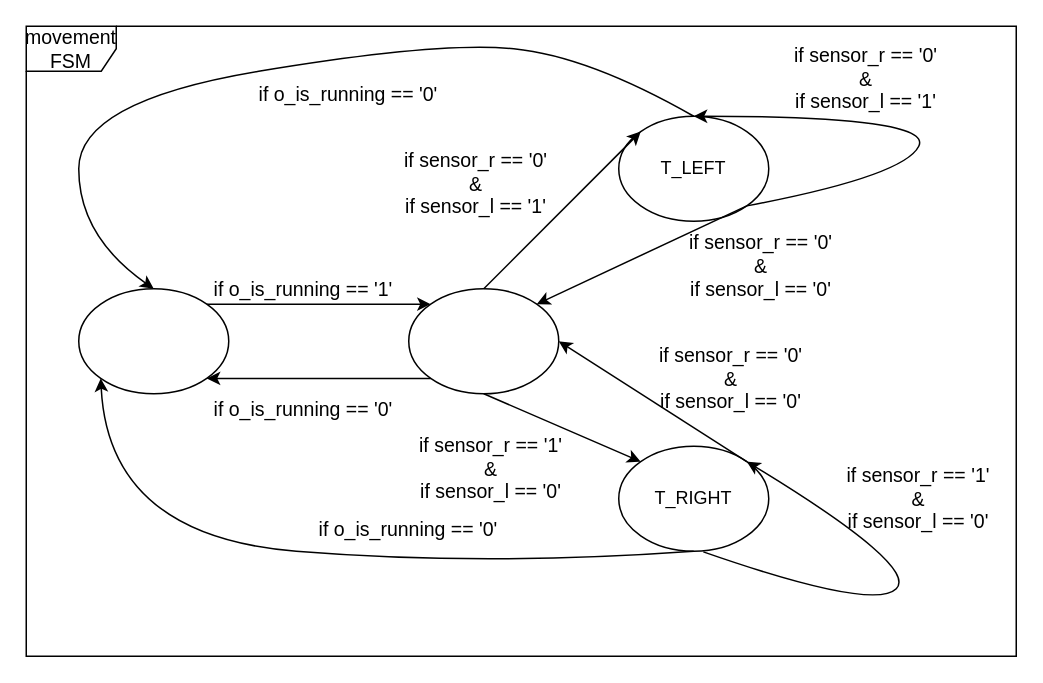
This 1043x683 diagram has some shape labels left out. The centre of each missing label's shape, as x and y in pixels:
"FORWARD" belongs at pixel 483 340.
"IDLE" belongs at pixel 153 340.
